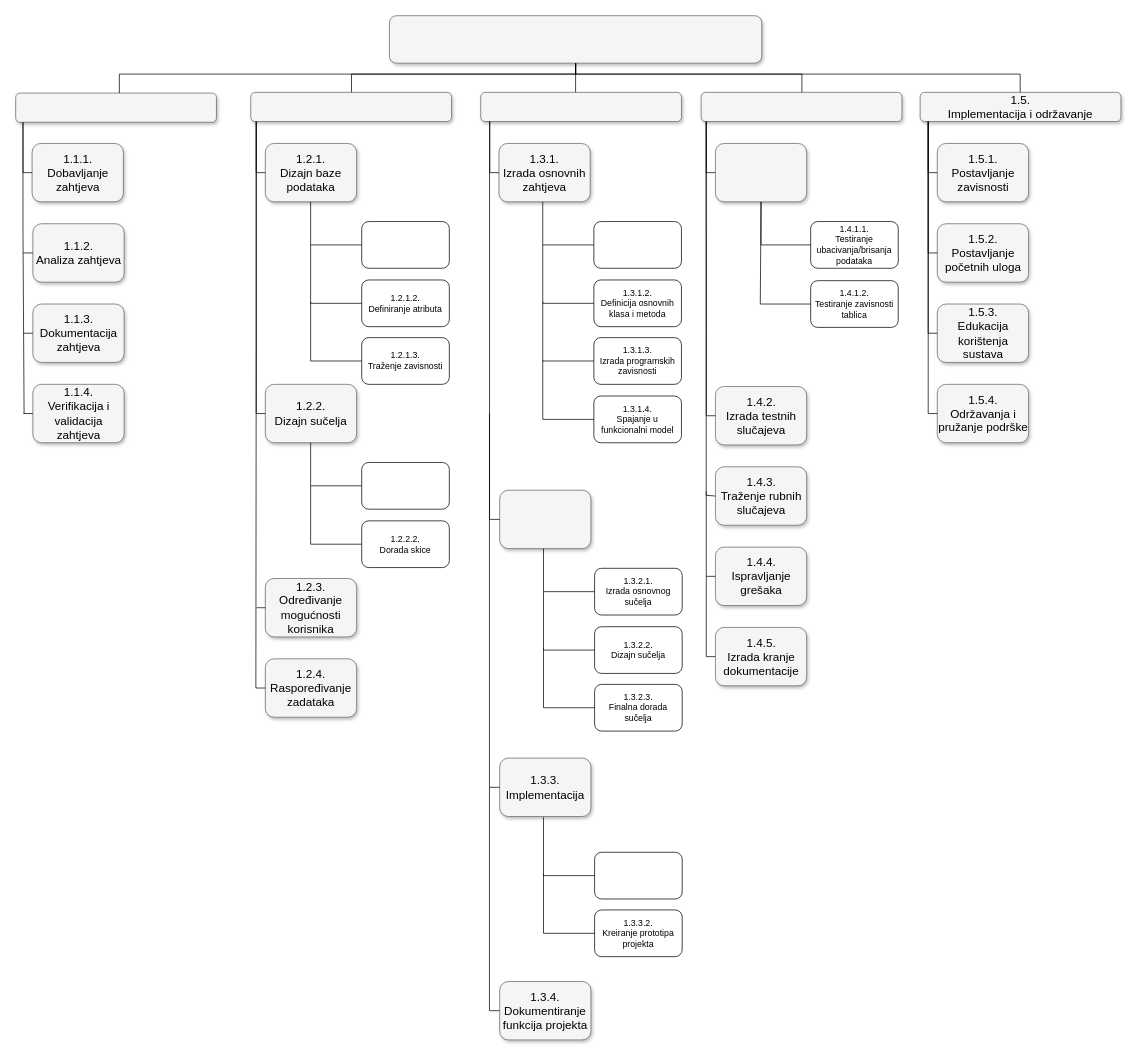
Some shapes in this 1138 by 1058 pixel diagram are drawn without their labels. The shapes that lost their labels are listed below. From the top down, each one's centre as x and y in pixels, then its label:
At (x=576, y=40): "1 Evidencija i administracija radnika".
At (x=116, y=108): "1.1. Inženjerstvo zahtjeva".
At (x=351, y=108): "1.2. Planiranje".
At (x=581, y=108): "1.3. Izrada".
At (x=802, y=108): "1.4. Testiranje i ispravljanje".
At (x=761, y=173): "1.4.1. Testiranje baze podataka".
At (x=405, y=244): "1.2.1.1. Definiranje tablica".
At (x=637, y=244): "1.3.1.1. Izrada baze podataka".
At (x=405, y=485): "1.2.2.1. Skica sučelja".
At (x=545, y=520): "1.3.2. Korisničko sučelje".
At (x=638, y=875): "1.3.3.1. Spajanje sučelja s glavnim programom".
